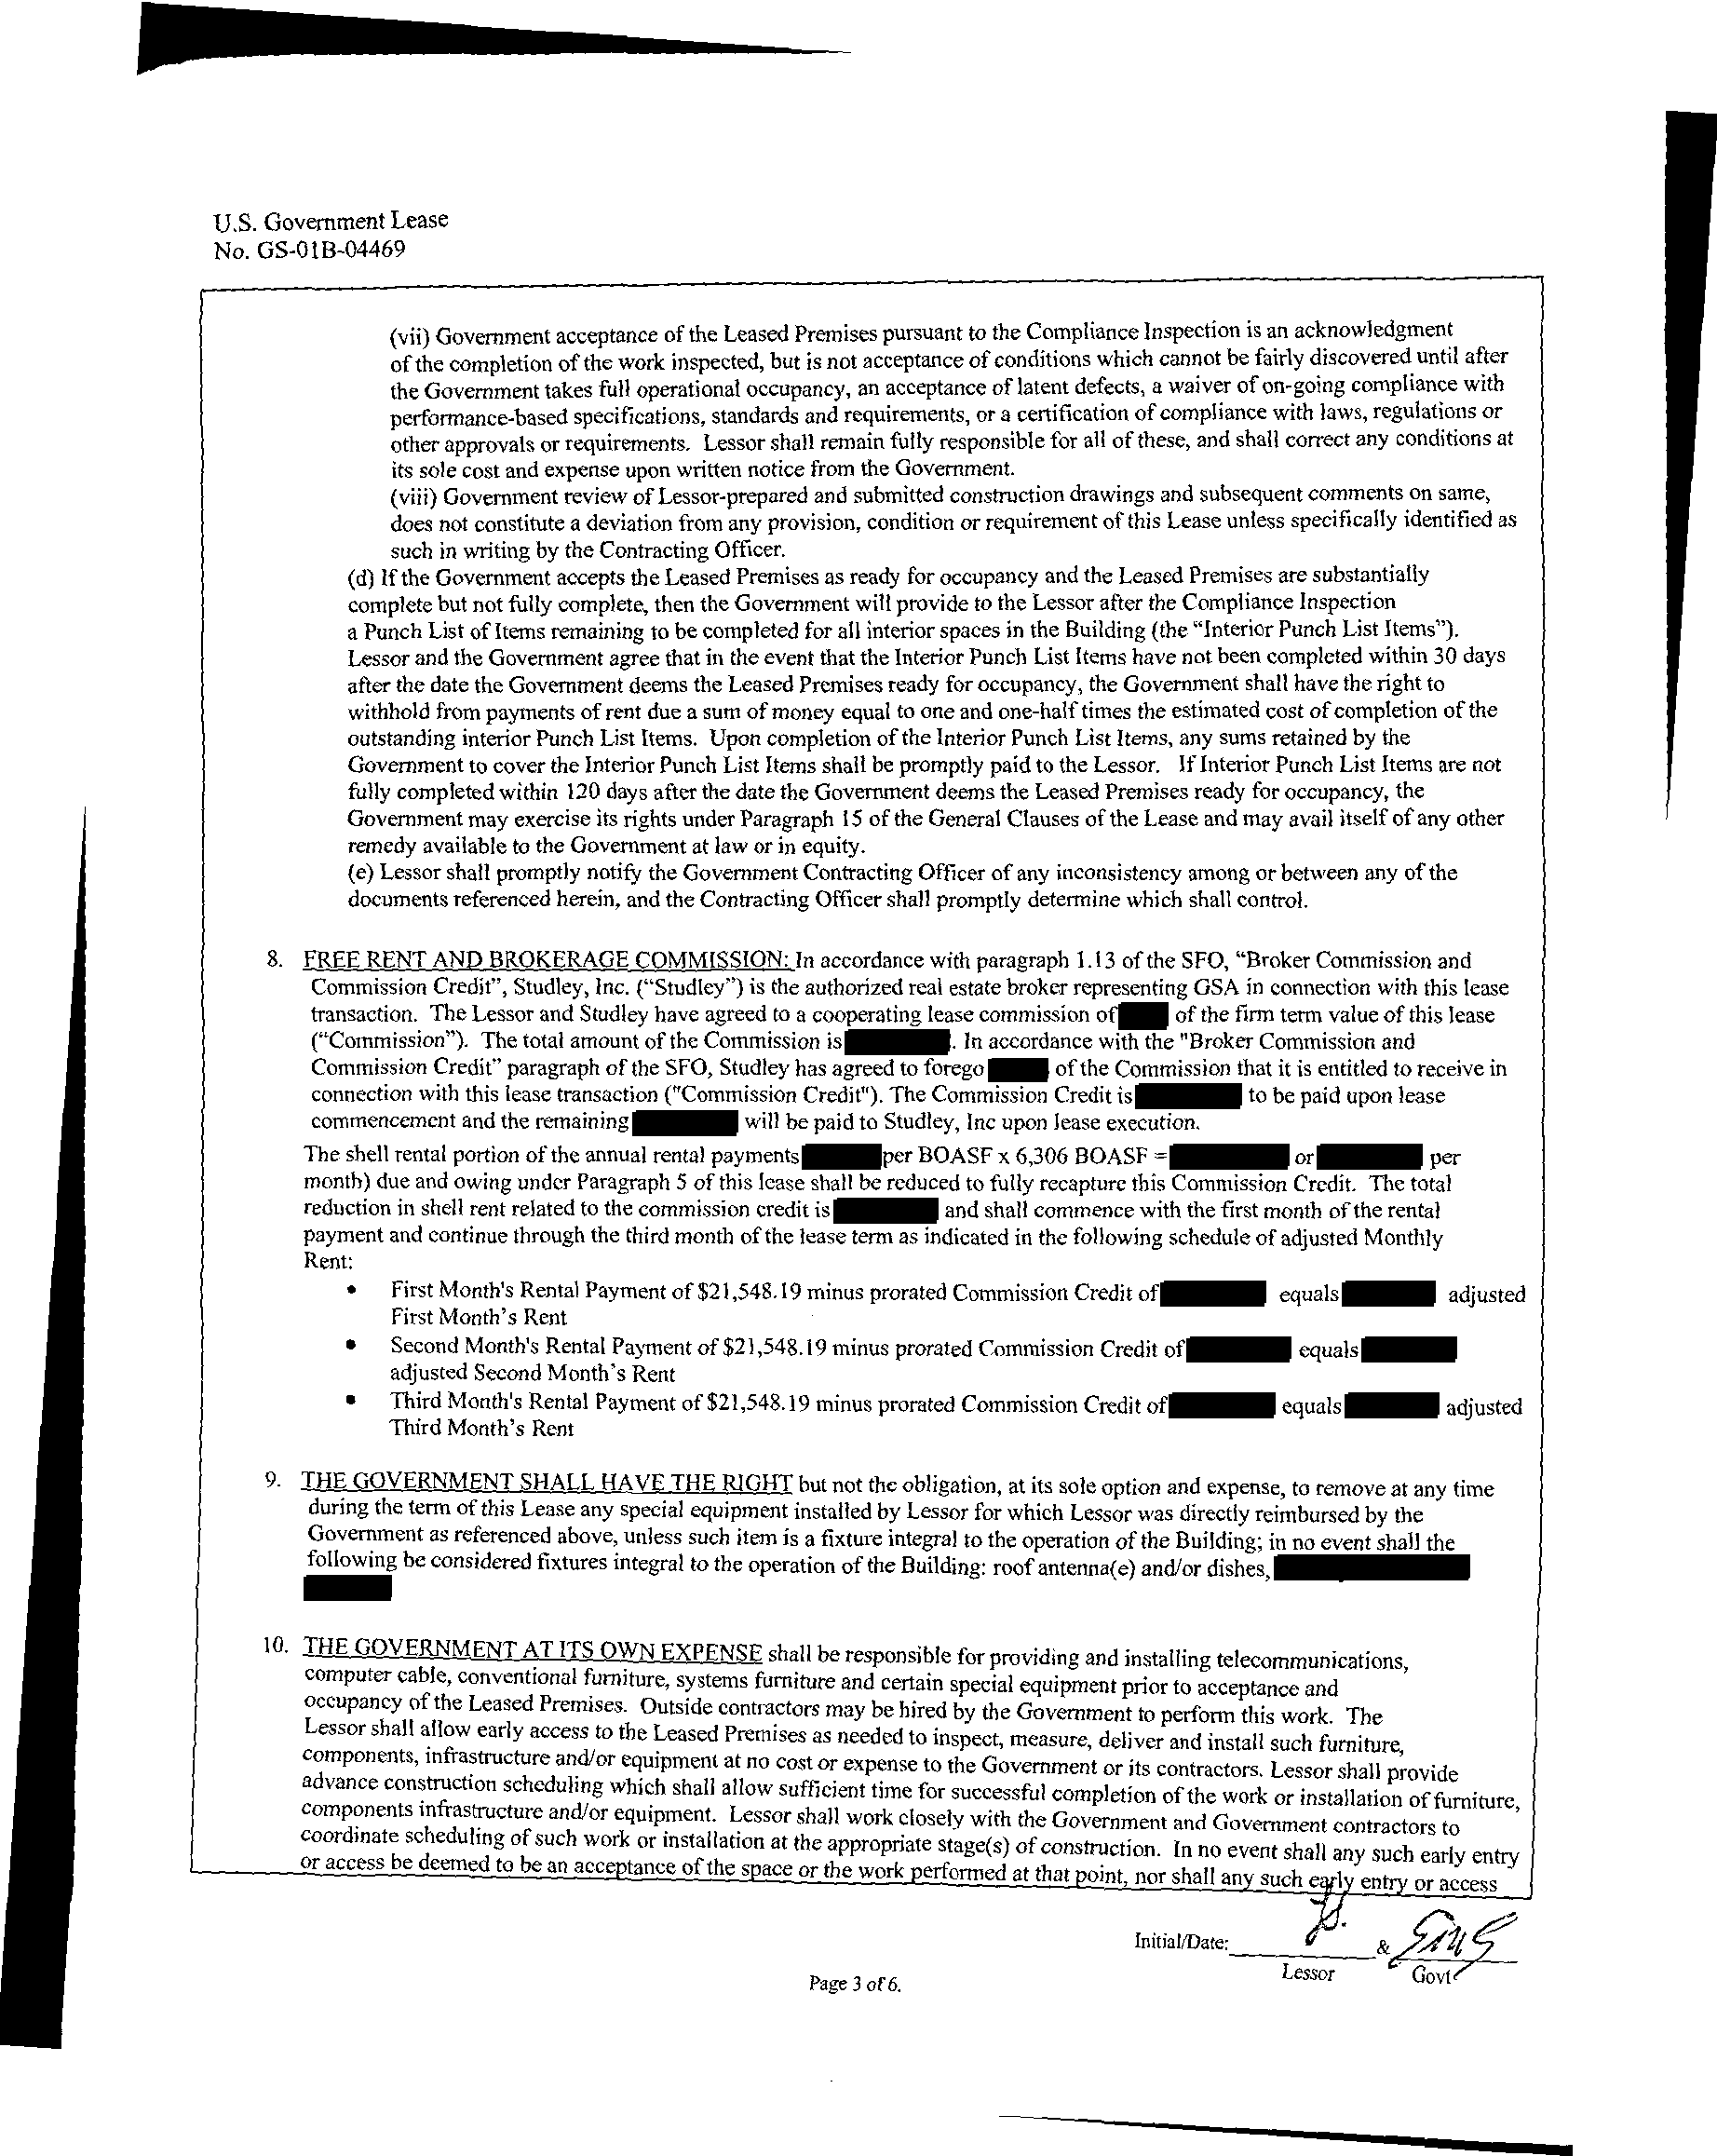handwritten: (1393, 1904, 1533, 1961), (1304, 1891, 1356, 1947)
